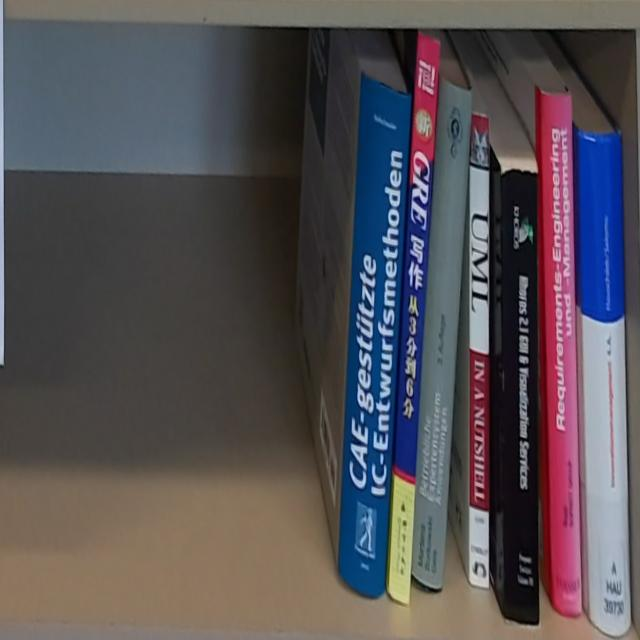Book Spine: (337, 74, 413, 598), (412, 77, 472, 595), (390, 29, 440, 606), (578, 129, 632, 639), (540, 90, 583, 623), (500, 170, 541, 630), (469, 113, 489, 587)
